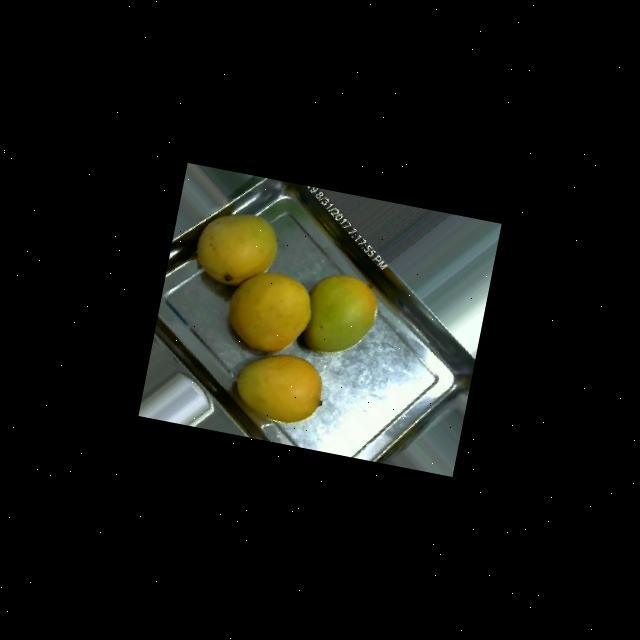Mango: (222, 264, 318, 360), (230, 345, 328, 429), (190, 205, 282, 292), (297, 268, 383, 361)
